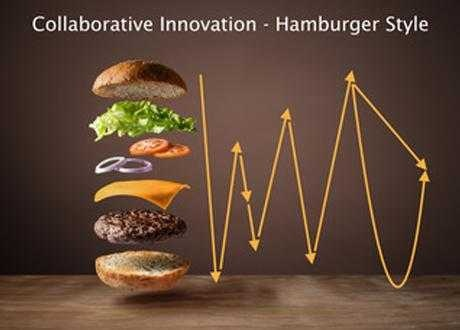hamburger: (83, 61, 192, 295)
